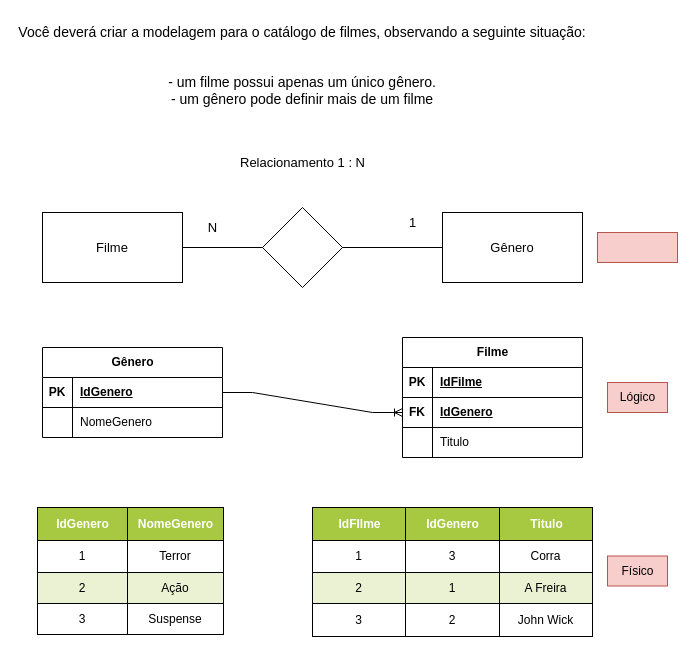
This 695x654 diagram has some shape labels left out. The shapes that lost their labels are listed below. From the top down, each one's centre as x and y in pixels, then its label:
At pixel 302 247: "Possui".
At pixel 637 247: "Conceitual".
